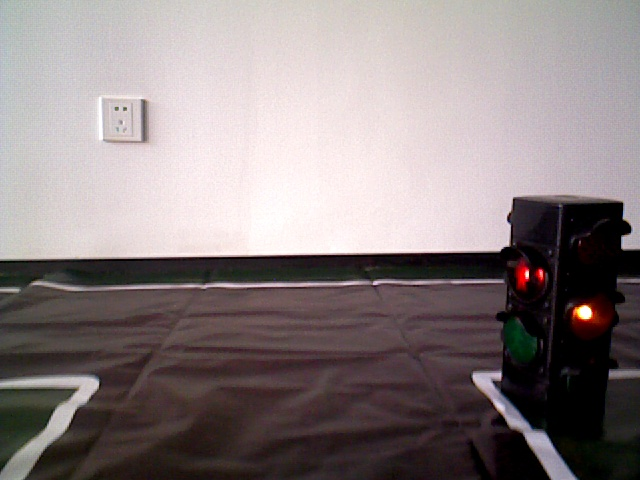yellow: (510, 194, 616, 408)
